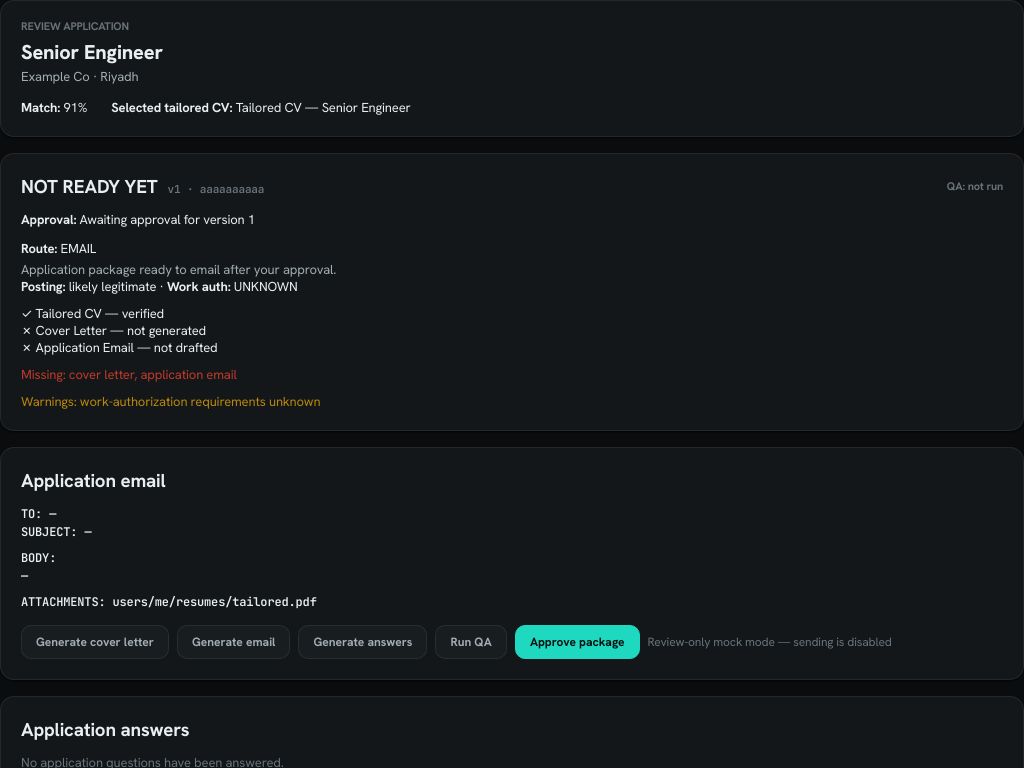
Test: PackageReview › shows every review block and completes the mocked review flow without AI or sending
This screenshot has width=1024, height=768.
Expected: the heading "Senior Engineer" is shown, left=21, top=39, right=163, bottom=65
Expected: the text "91%" is shown, left=63, top=99, right=87, bottom=116
Click the button "Generate cover letter" at (95, 642), box left=21, top=625, right=169, bottom=659
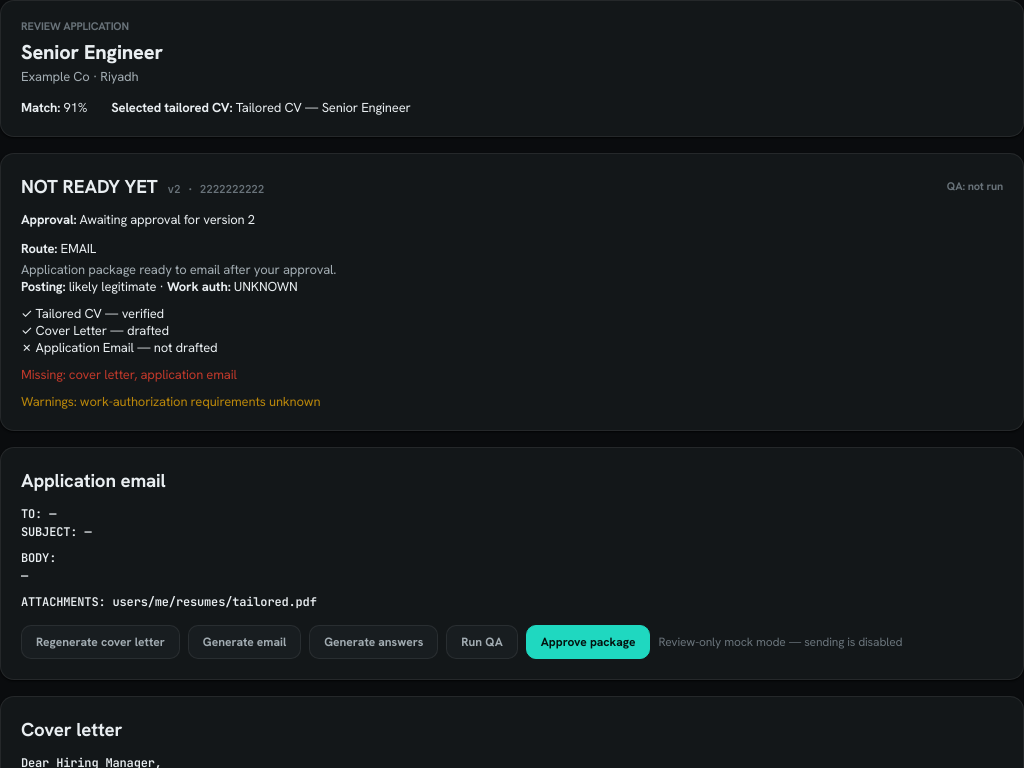
Click the button "Generate email" at (245, 642), box left=188, top=625, right=301, bottom=659
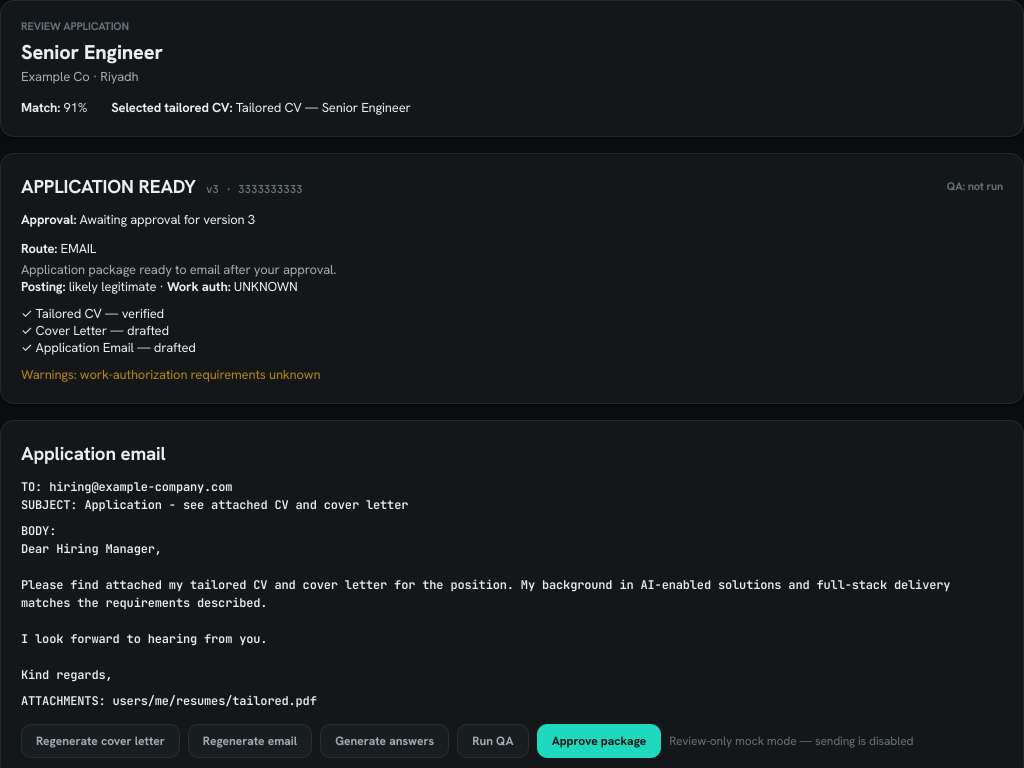
Click the button "Generate answers" at (385, 741), box left=320, top=724, right=449, bottom=758
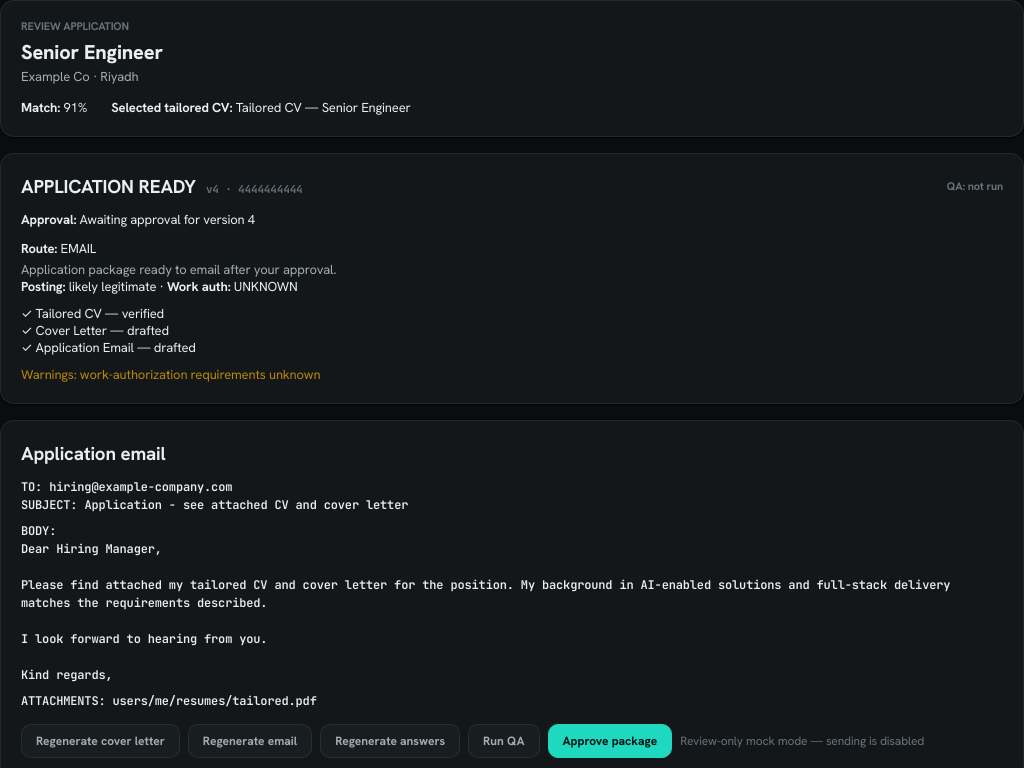
Click the button "Run QA" at (504, 741), box left=468, top=724, right=540, bottom=758
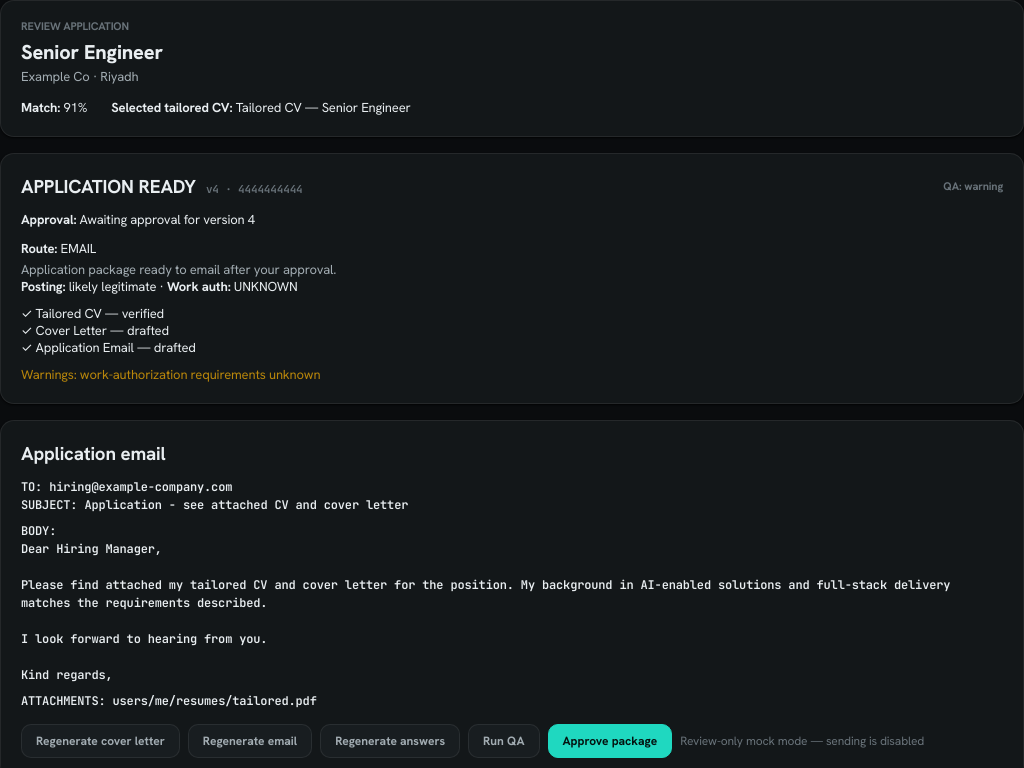
Click the button "Approve package" at (610, 741), box left=548, top=724, right=672, bottom=758
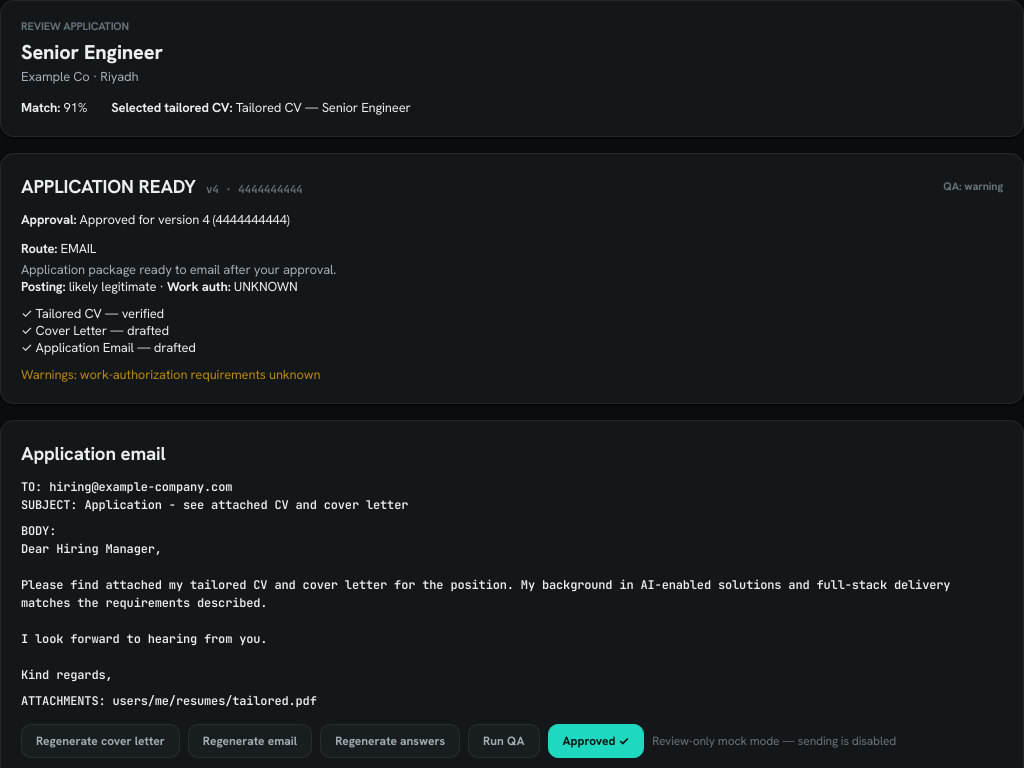
Expected: the text "Review-only mock mode — sending is disabled" is shown, left=652, top=733, right=896, bottom=749
Expected: the text "Approval: Approved for version 4 (4444444444)" is shown, left=21, top=211, right=290, bottom=228
